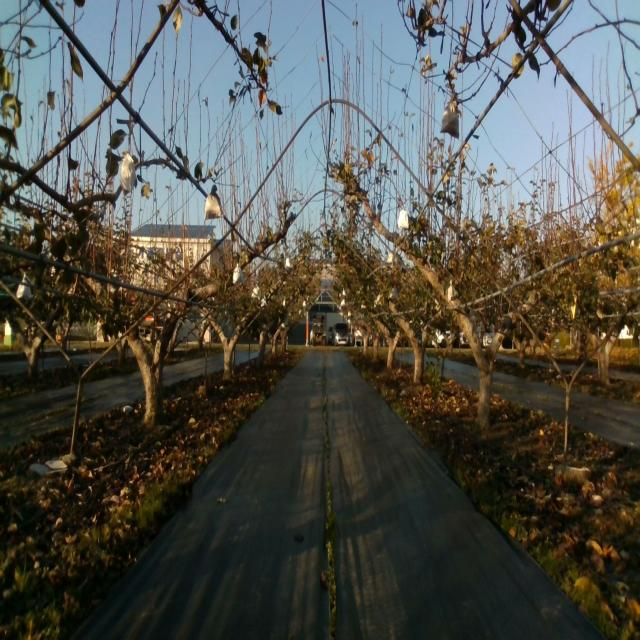pearbags: (118, 152, 136, 190), (440, 105, 459, 140), (204, 186, 223, 220), (233, 264, 245, 286), (398, 207, 408, 229)
